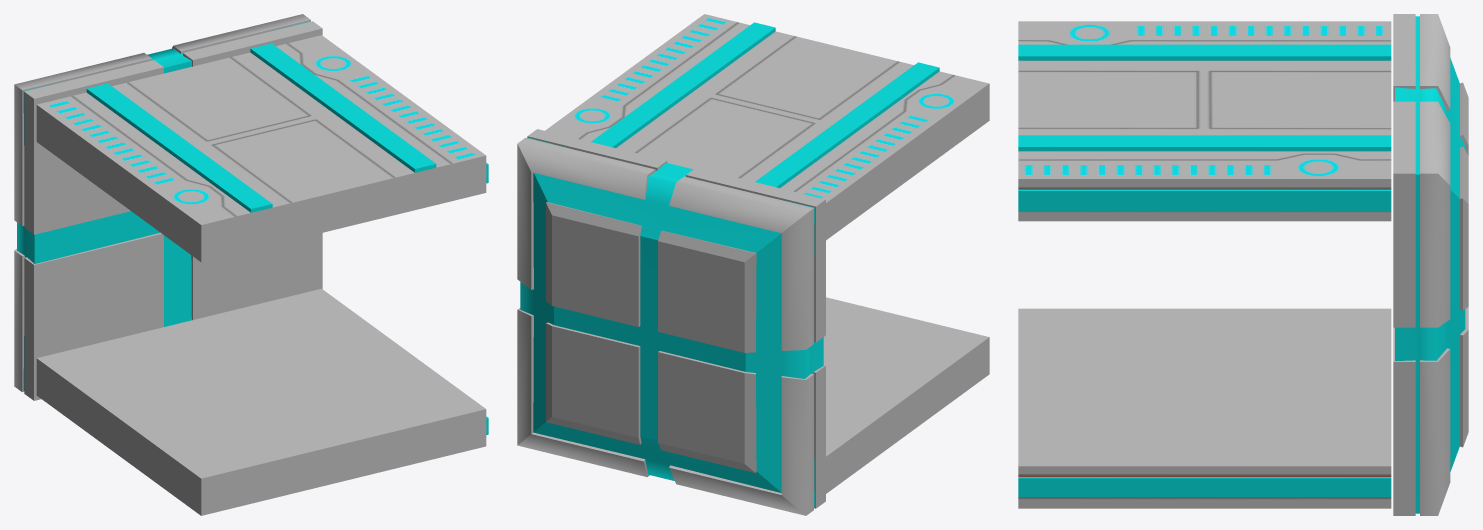
File: movable right.fbx
3 renders of one model, left to right at view 1: azimuth 30°, elevation 25°; view 2: azimuth 150°, elevation 25°; view 3: azimuth 270°, elevation 25°, orthographic. The views are drawn at different scales.
Parts seen in each view (by area): view 1: polySurface1, polySurface2, right_side; view 2: right_side, polySurface1, polySurface2; view 3: polySurface1, polySurface2, right_side.
Boxes of the visible parts, <box> form: polySurface1: <box>36,35,488,262</box>; polySurface2: <box>36,288,488,515</box>; right_side: <box>14,14,322,400</box>; right_side: <box>517,129,825,515</box>; polySurface1: <box>545,14,989,240</box>; polySurface2: <box>823,297,989,493</box>; polySurface1: <box>1018,21,1391,221</box>; polySurface2: <box>1018,308,1391,508</box>; right_side: <box>1393,14,1468,515</box>.
Size of the model in its own units: 10.15 by 10.13 by 12.07.
